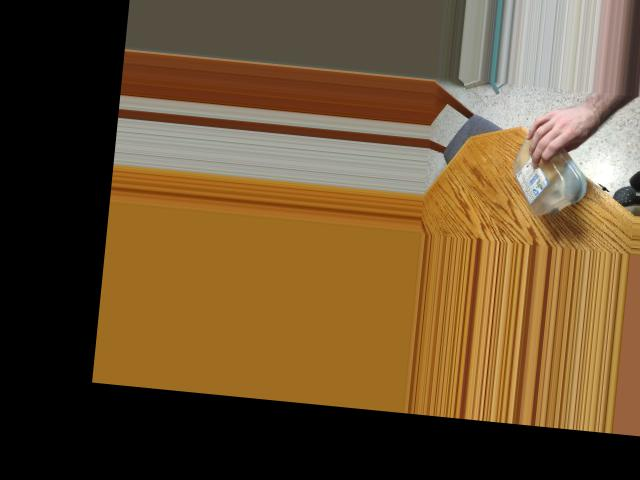cheese: (506, 118, 588, 221)
